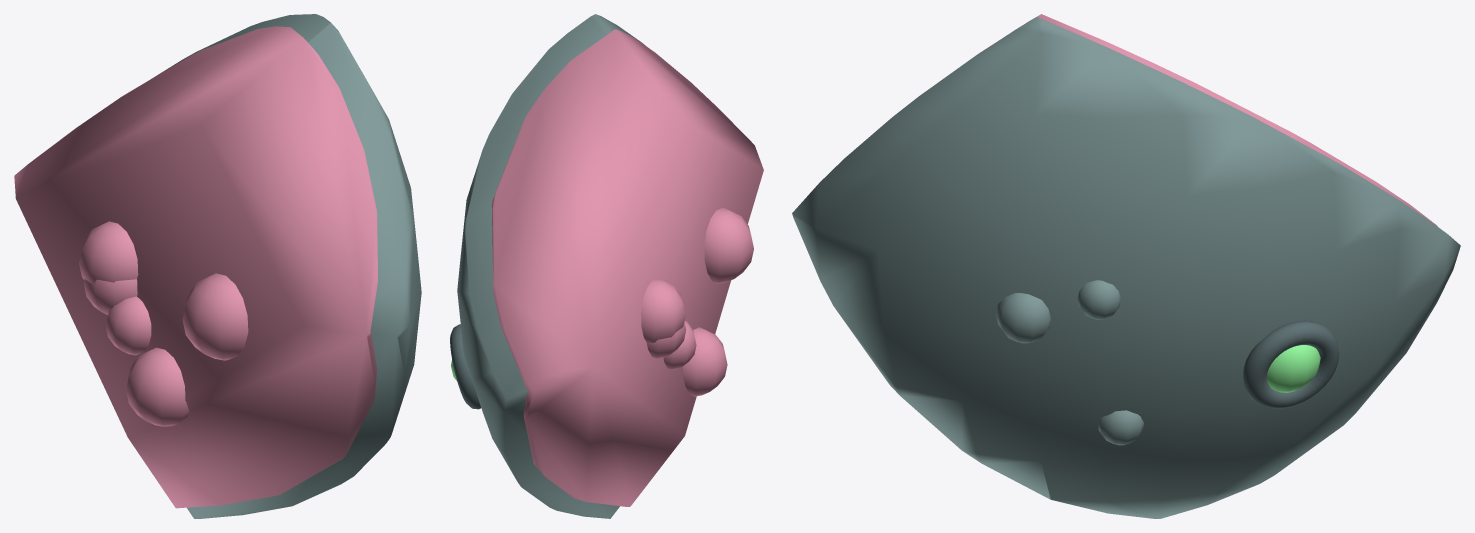
Rendered from chunk6.glb.
3 renders of one model, left to right at view 1: azimuth 30°, elevation 25°; view 2: azimuth 150°, elevation 25°; view 3: azimuth 270°, elevation 25°, orthographic. The views are drawn at different scales.
Parts seen in each view (by area): view 1: flesh, skin; view 2: flesh, skin, lip; view 3: skin, lip, flesh, glow.
Boxes of the visible parts, bbox=[...] form: flesh: bbox=[14, 26, 377, 508]; skin: bbox=[158, 14, 421, 518]; flesh: bbox=[491, 29, 763, 506]; skin: bbox=[457, 14, 645, 518]; lip: bbox=[450, 324, 481, 409]; skin: bbox=[792, 17, 1460, 518]; lip: bbox=[1243, 320, 1339, 408]; flesh: bbox=[973, 14, 1437, 226]; glow: bbox=[1266, 345, 1320, 392].
Bounding box in the file's own units: 0.6818 × 1.33 × 1.49.
